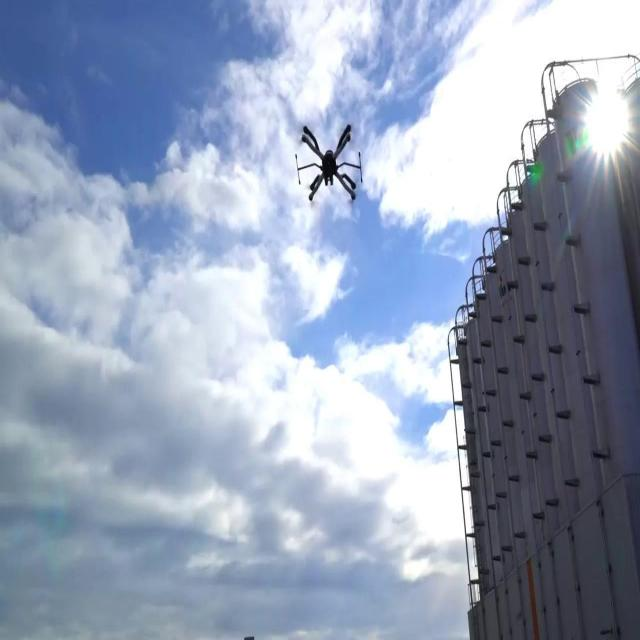drone: (293, 122, 365, 207)
